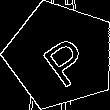P_NW: (29, 24, 92, 87)
